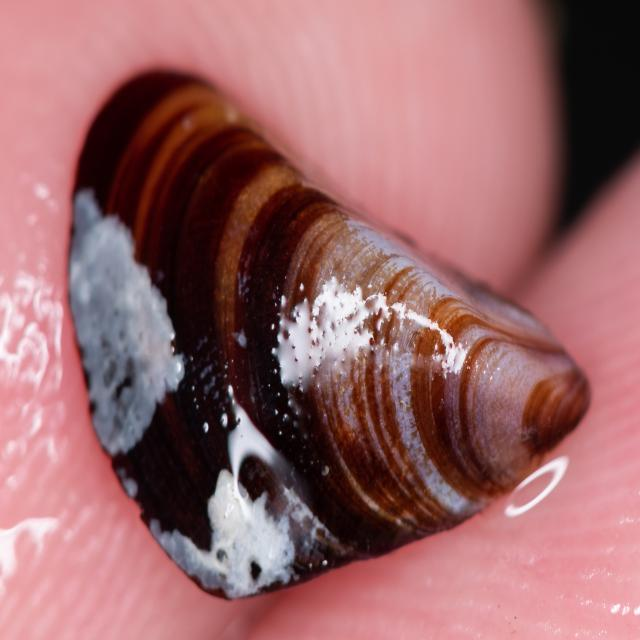Mytilaster_lineatus: (66, 69, 591, 605)
